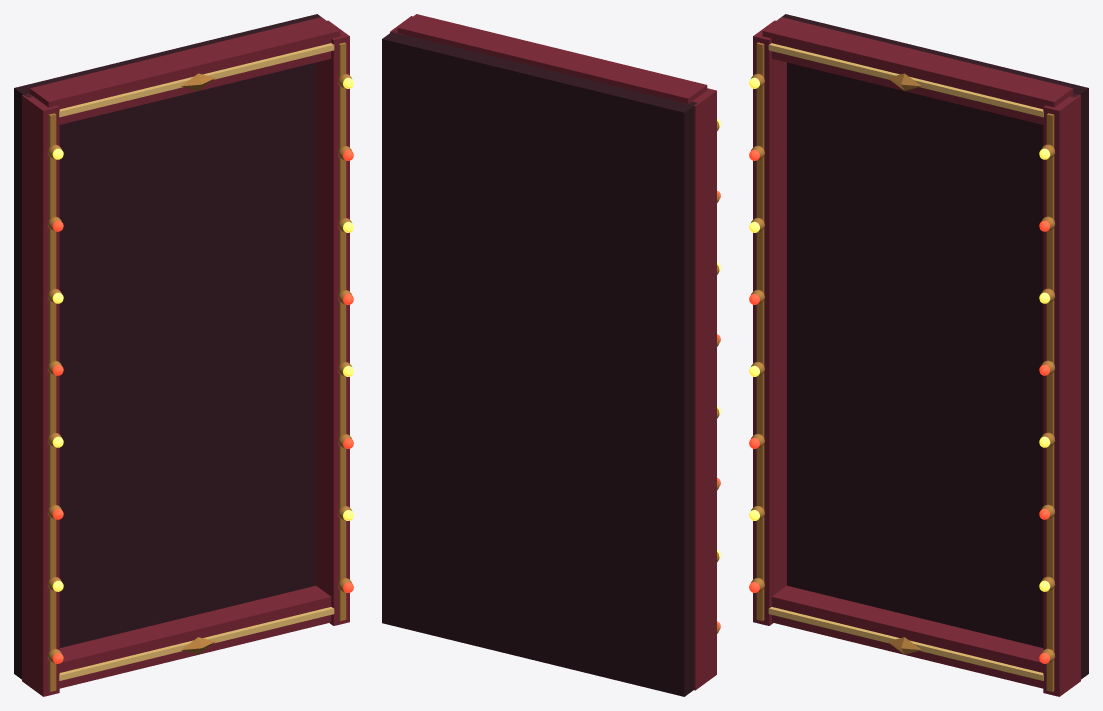
File: mia-funhouse_mirror.glb
The picture shows the model from 3 angles, left to right: view 1: azimuth 30°, elevation 25°; view 2: azimuth 150°, elevation 25°; view 3: azimuth 330°, elevation 25°; orthographic projection.
Parts seen in each view (by area): view 1: Body_dark, Body_velvet, Body_brass, Body_trim, Body_amber, Body_red-bulb; view 2: Body_dark, Body_velvet; view 3: Body_dark, Body_velvet, Body_brass, Body_trim, Body_amber, Body_red-bulb.
Part boxes in pixels (x1,y1,x2,y2): Body_dark: (14, 14, 327, 679); Body_velvet: (22, 17, 349, 696); Body_brass: (47, 42, 351, 691); Body_trim: (59, 43, 334, 680); Body_amber: (52, 77, 353, 591); Body_red-bulb: (52, 149, 353, 663); Body_dark: (382, 29, 697, 696); Body_velvet: (390, 14, 716, 690); Body_dark: (774, 14, 1088, 679); Body_velvet: (753, 17, 1080, 696); Body_brass: (751, 42, 1055, 691); Body_trim: (768, 43, 1043, 680); Body_amber: (749, 77, 1050, 591); Body_red-bulb: (749, 149, 1050, 663).
Size of the model in its own units: 1.31 by 2.42 by 0.299.
